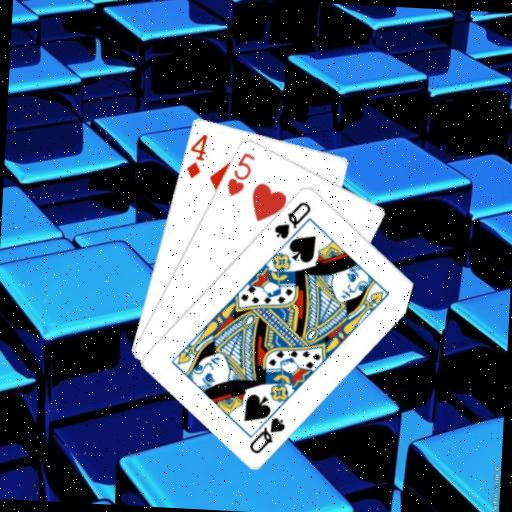4D: (182, 129, 209, 180)
5H: (223, 147, 258, 199)
QS: (271, 196, 314, 242), (246, 413, 288, 457)
